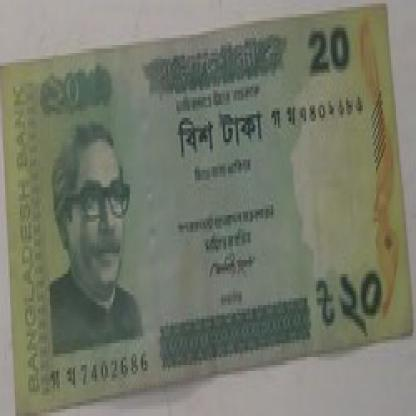Twenty: (151, 107, 268, 156), (312, 274, 390, 336), (301, 21, 361, 80), (38, 69, 103, 118)
